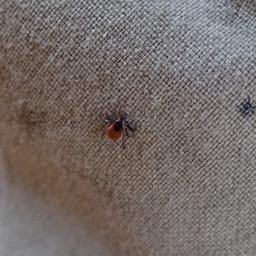Ixodes scapularis: (102, 106, 139, 147)
